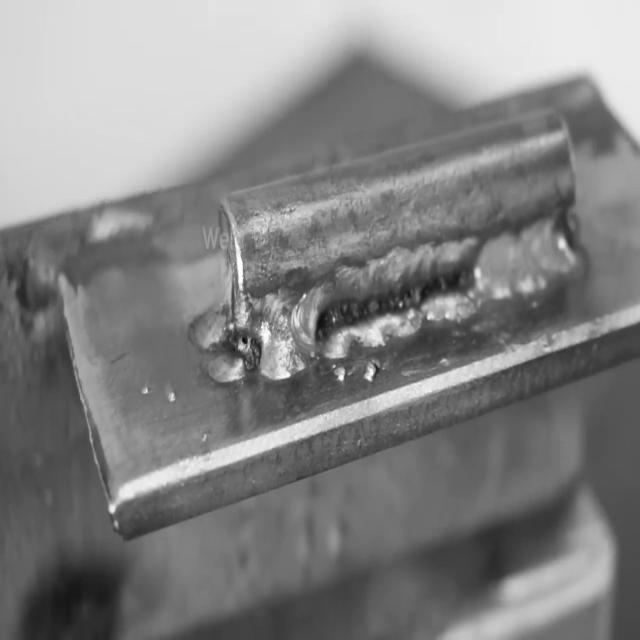Bad Welding: (237, 231, 486, 375)
Porosity: (302, 285, 408, 347), (223, 327, 264, 378)
